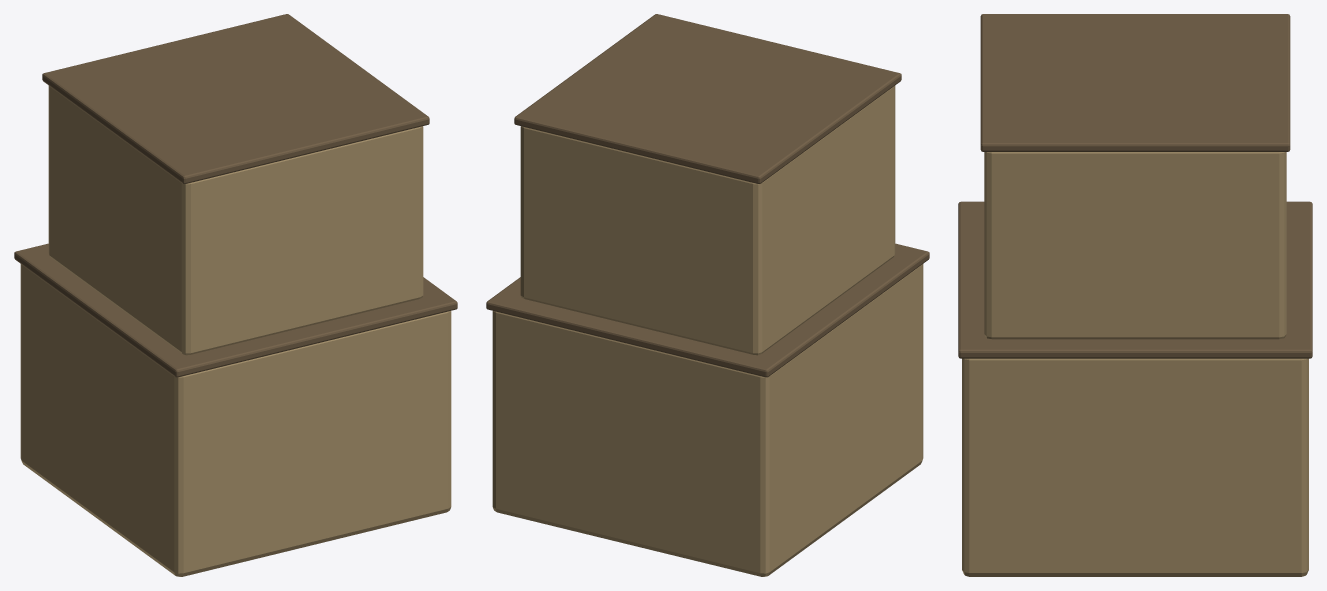
Rendered from crate-stack.glb.
3 renders of one model, left to right at view 1: azimuth 30°, elevation 25°; view 2: azimuth 150°, elevation 25°; view 3: azimuth 270°, elevation 25°, orthographic. The views are drawn at different scales.
Visible parts, largest first — view 1: crate_stack; view 2: crate_stack; view 3: crate_stack.
Part boxes in pixels (box(x1,y1,x2,y2)): crate_stack: box(14, 14, 457, 576); crate_stack: box(486, 14, 929, 576); crate_stack: box(958, 14, 1312, 576).
Bounding box in the file's own units: 1.43 × 1.91 × 1.43.
